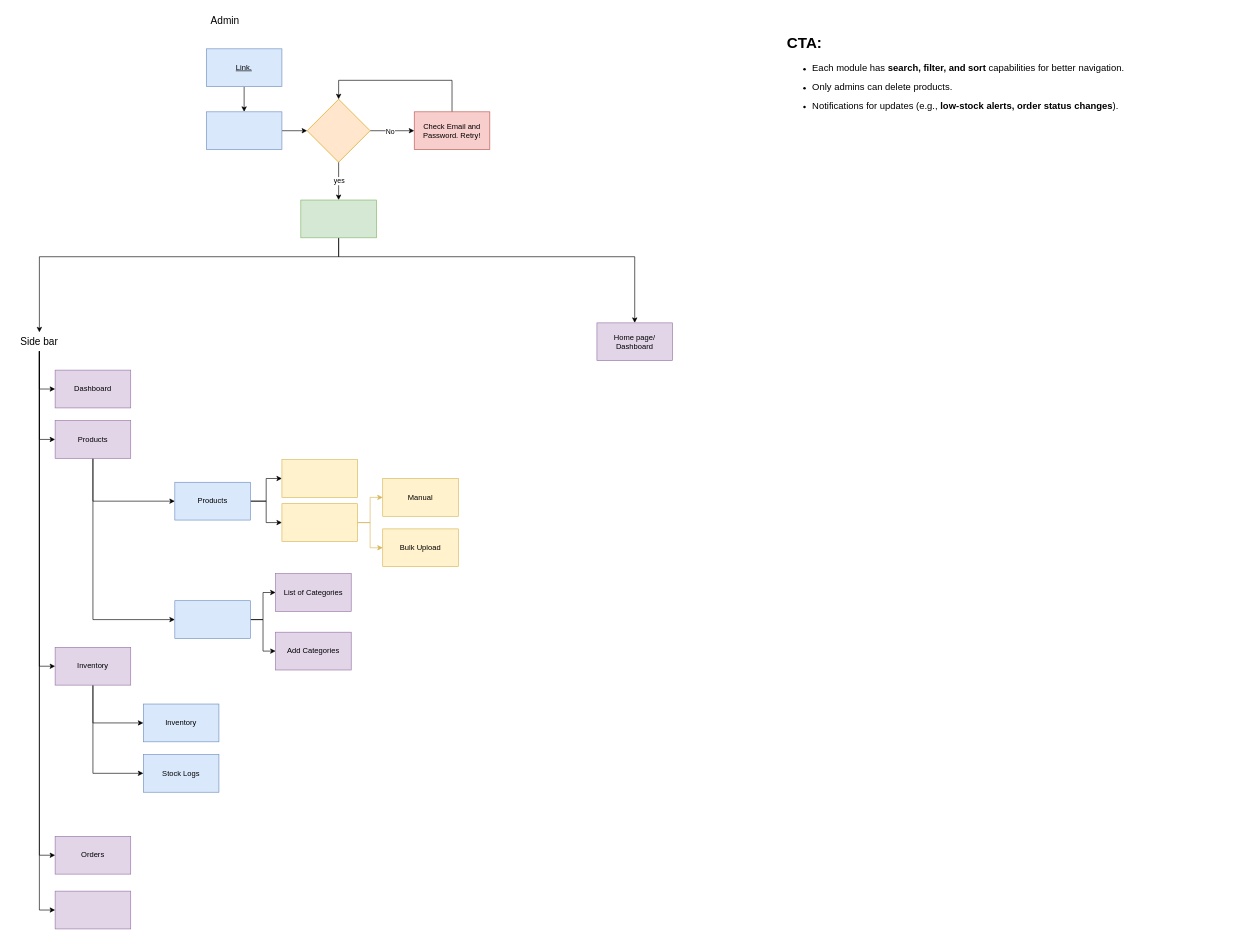
Image size: 1244x940. Some labels were removed from this diagram. Here are the shapes that lost their labels. From the top down, the centre of each, then its label:
At (x=244, y=130): "Account Login".
At (x=338, y=130): "Valid Details?".
At (x=338, y=218): "Successfully logged in".
At (x=319, y=478): "List of Products".
At (x=319, y=522): "Add Products".
At (x=212, y=619): "Categories".
